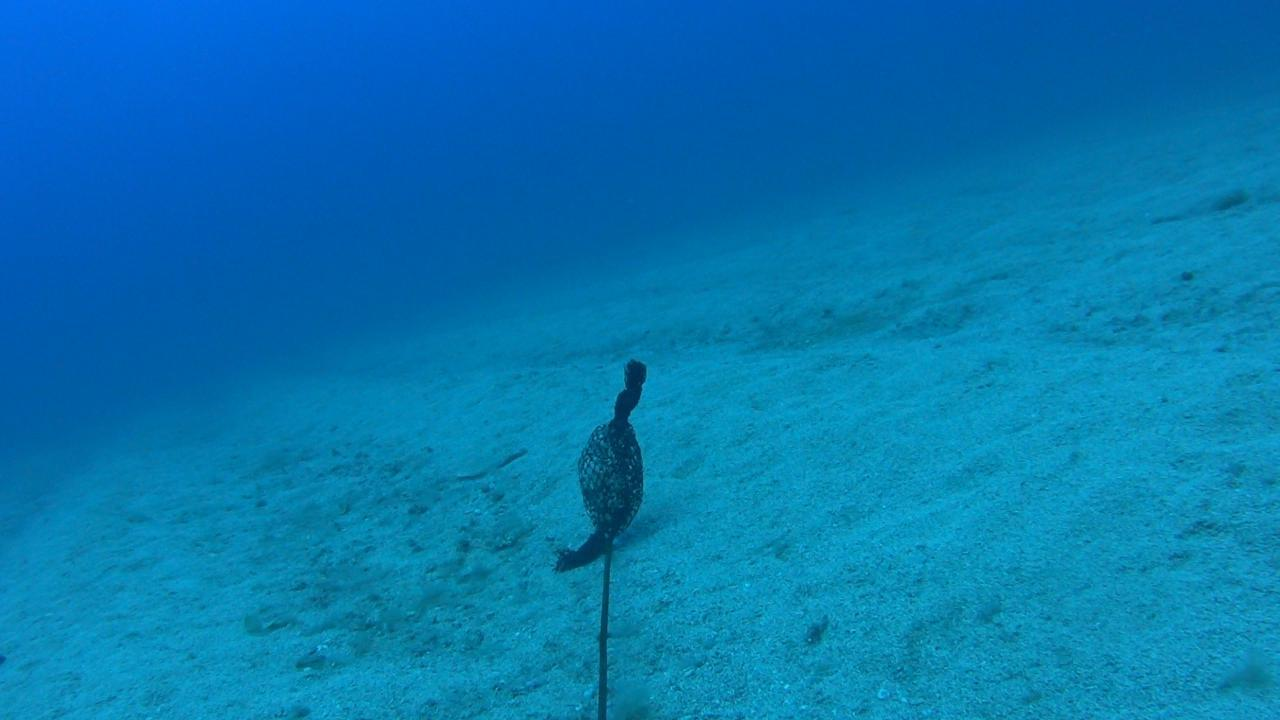bothus: (452, 434, 527, 483)
